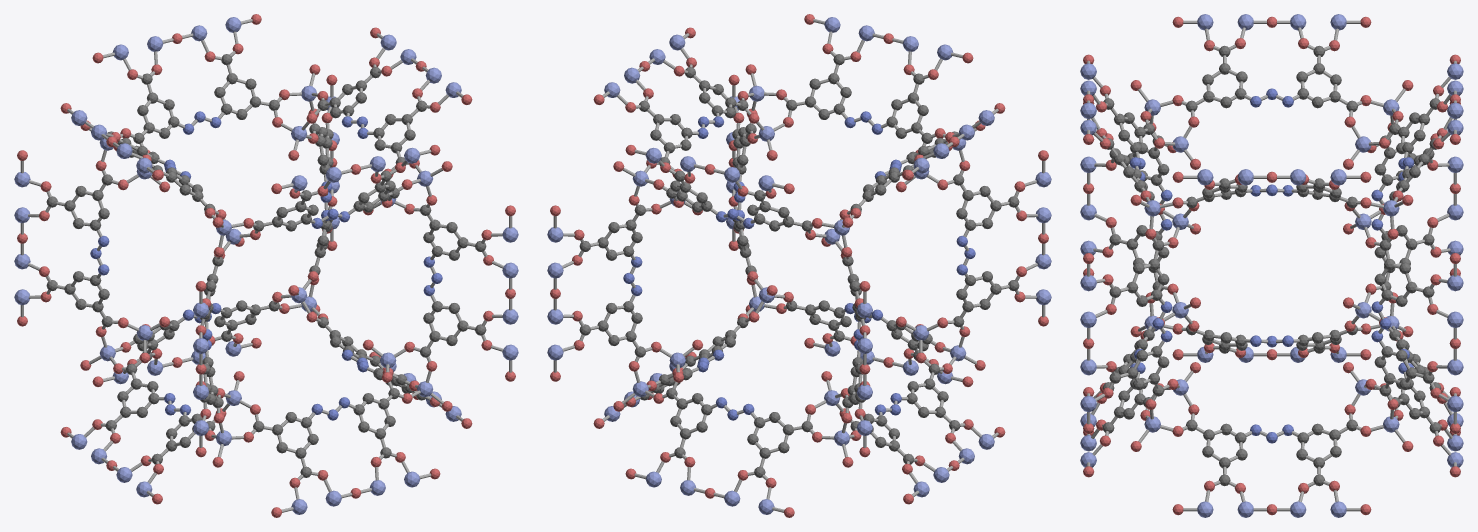
File: MOF_AR_teaching_sample.glb
The picture shows the model from 3 angles, left to right: view 1: azimuth 30°, elevation 25°; view 2: azimuth 150°, elevation 25°; view 3: azimuth 270°, elevation 25°; orthographic projection. The views are drawn at different scales.
Parts seen in each view (by area): view 1: atoms_C, bonds, atoms_O, atoms_Zn, atoms_N; view 2: atoms_C, bonds, atoms_O, atoms_Zn, atoms_N; view 3: atoms_C, bonds, atoms_O, atoms_Zn, atoms_N.
Part boxes in pixels (box(x1,y1,x2,y2)): atoms_C: box(46, 54, 486, 477); bonds: box(20, 19, 512, 512); atoms_O: box(17, 14, 515, 517); atoms_Zn: box(14, 17, 518, 514); atoms_N: box(90, 111, 442, 420); atoms_C: box(579, 54, 1019, 477); bonds: box(553, 19, 1045, 512); atoms_O: box(550, 14, 1048, 517); atoms_Zn: box(547, 17, 1051, 514); atoms_N: box(623, 111, 975, 420); atoms_C: box(1102, 45, 1441, 486); bonds: box(1087, 20, 1456, 511); atoms_O: box(1083, 16, 1460, 515); atoms_Zn: box(1080, 14, 1463, 517); atoms_N: box(1129, 88, 1414, 443).
Size of the model in its own units: 28.37 by 28.37 by 28.37.
